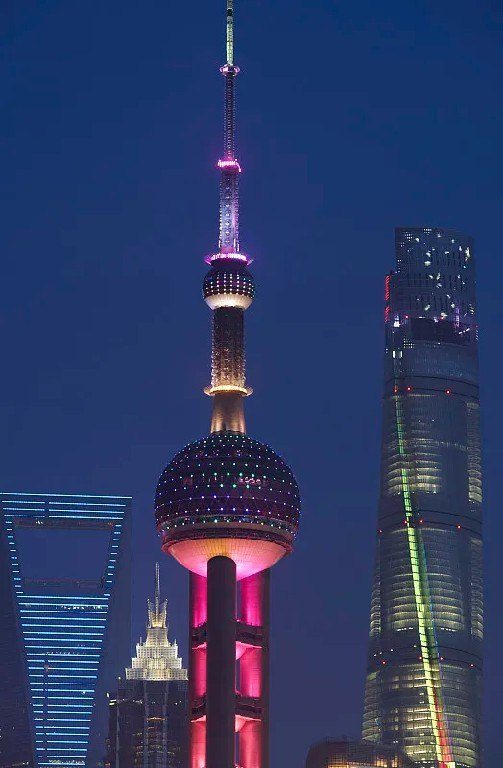Oriental: (153, 1, 300, 768)
